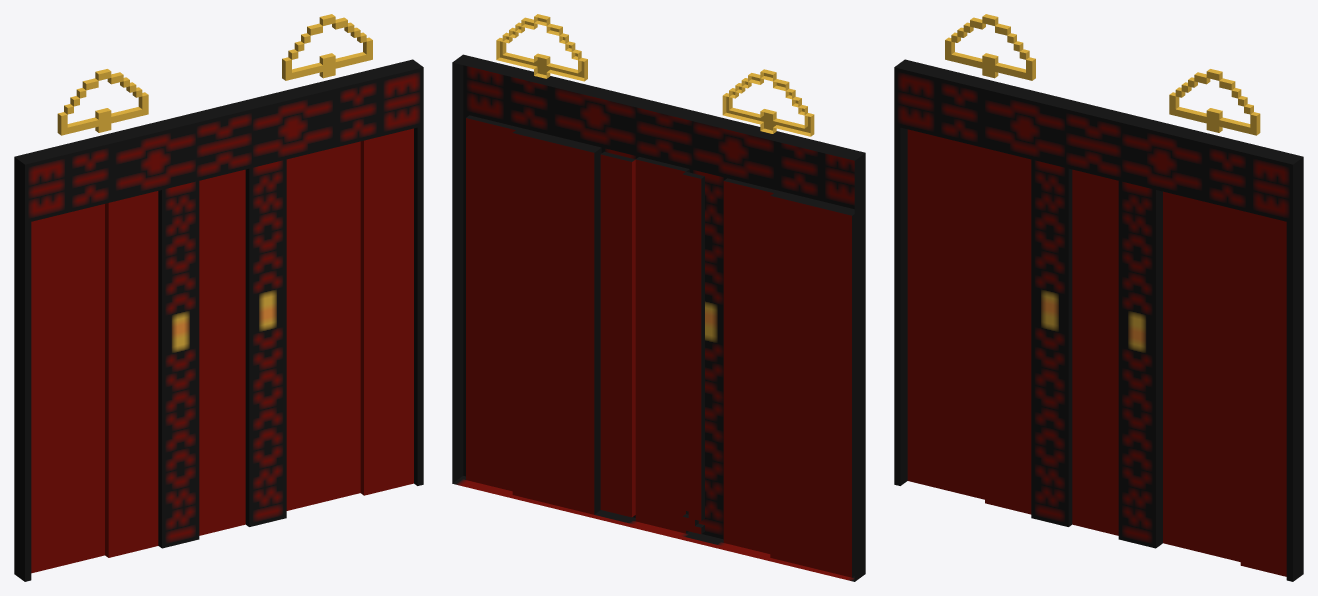
File: LiftDoor01.fbx
3 renders of one model, left to right at view 1: azimuth 30°, elevation 25°; view 2: azimuth 150°, elevation 25°; view 3: azimuth 330°, elevation 25°, orthographic.
Parts seen in each view (by area): view 1: Matrix; view 2: Matrix; view 3: Matrix.
Boxes of the visible parts, bbox=[...] form: Matrix: bbox=[14, 14, 423, 581]; Matrix: bbox=[452, 14, 865, 581]; Matrix: bbox=[894, 14, 1303, 581].
Bounding box in the file's own units: 64 × 74 × 3.
